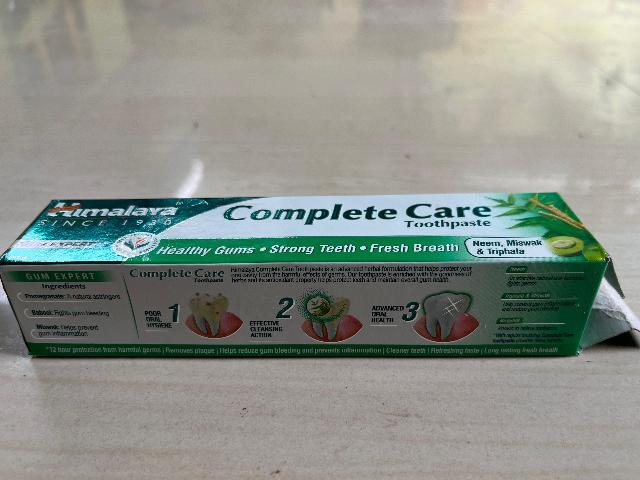himalaya toothpaste: (4, 194, 596, 362)
